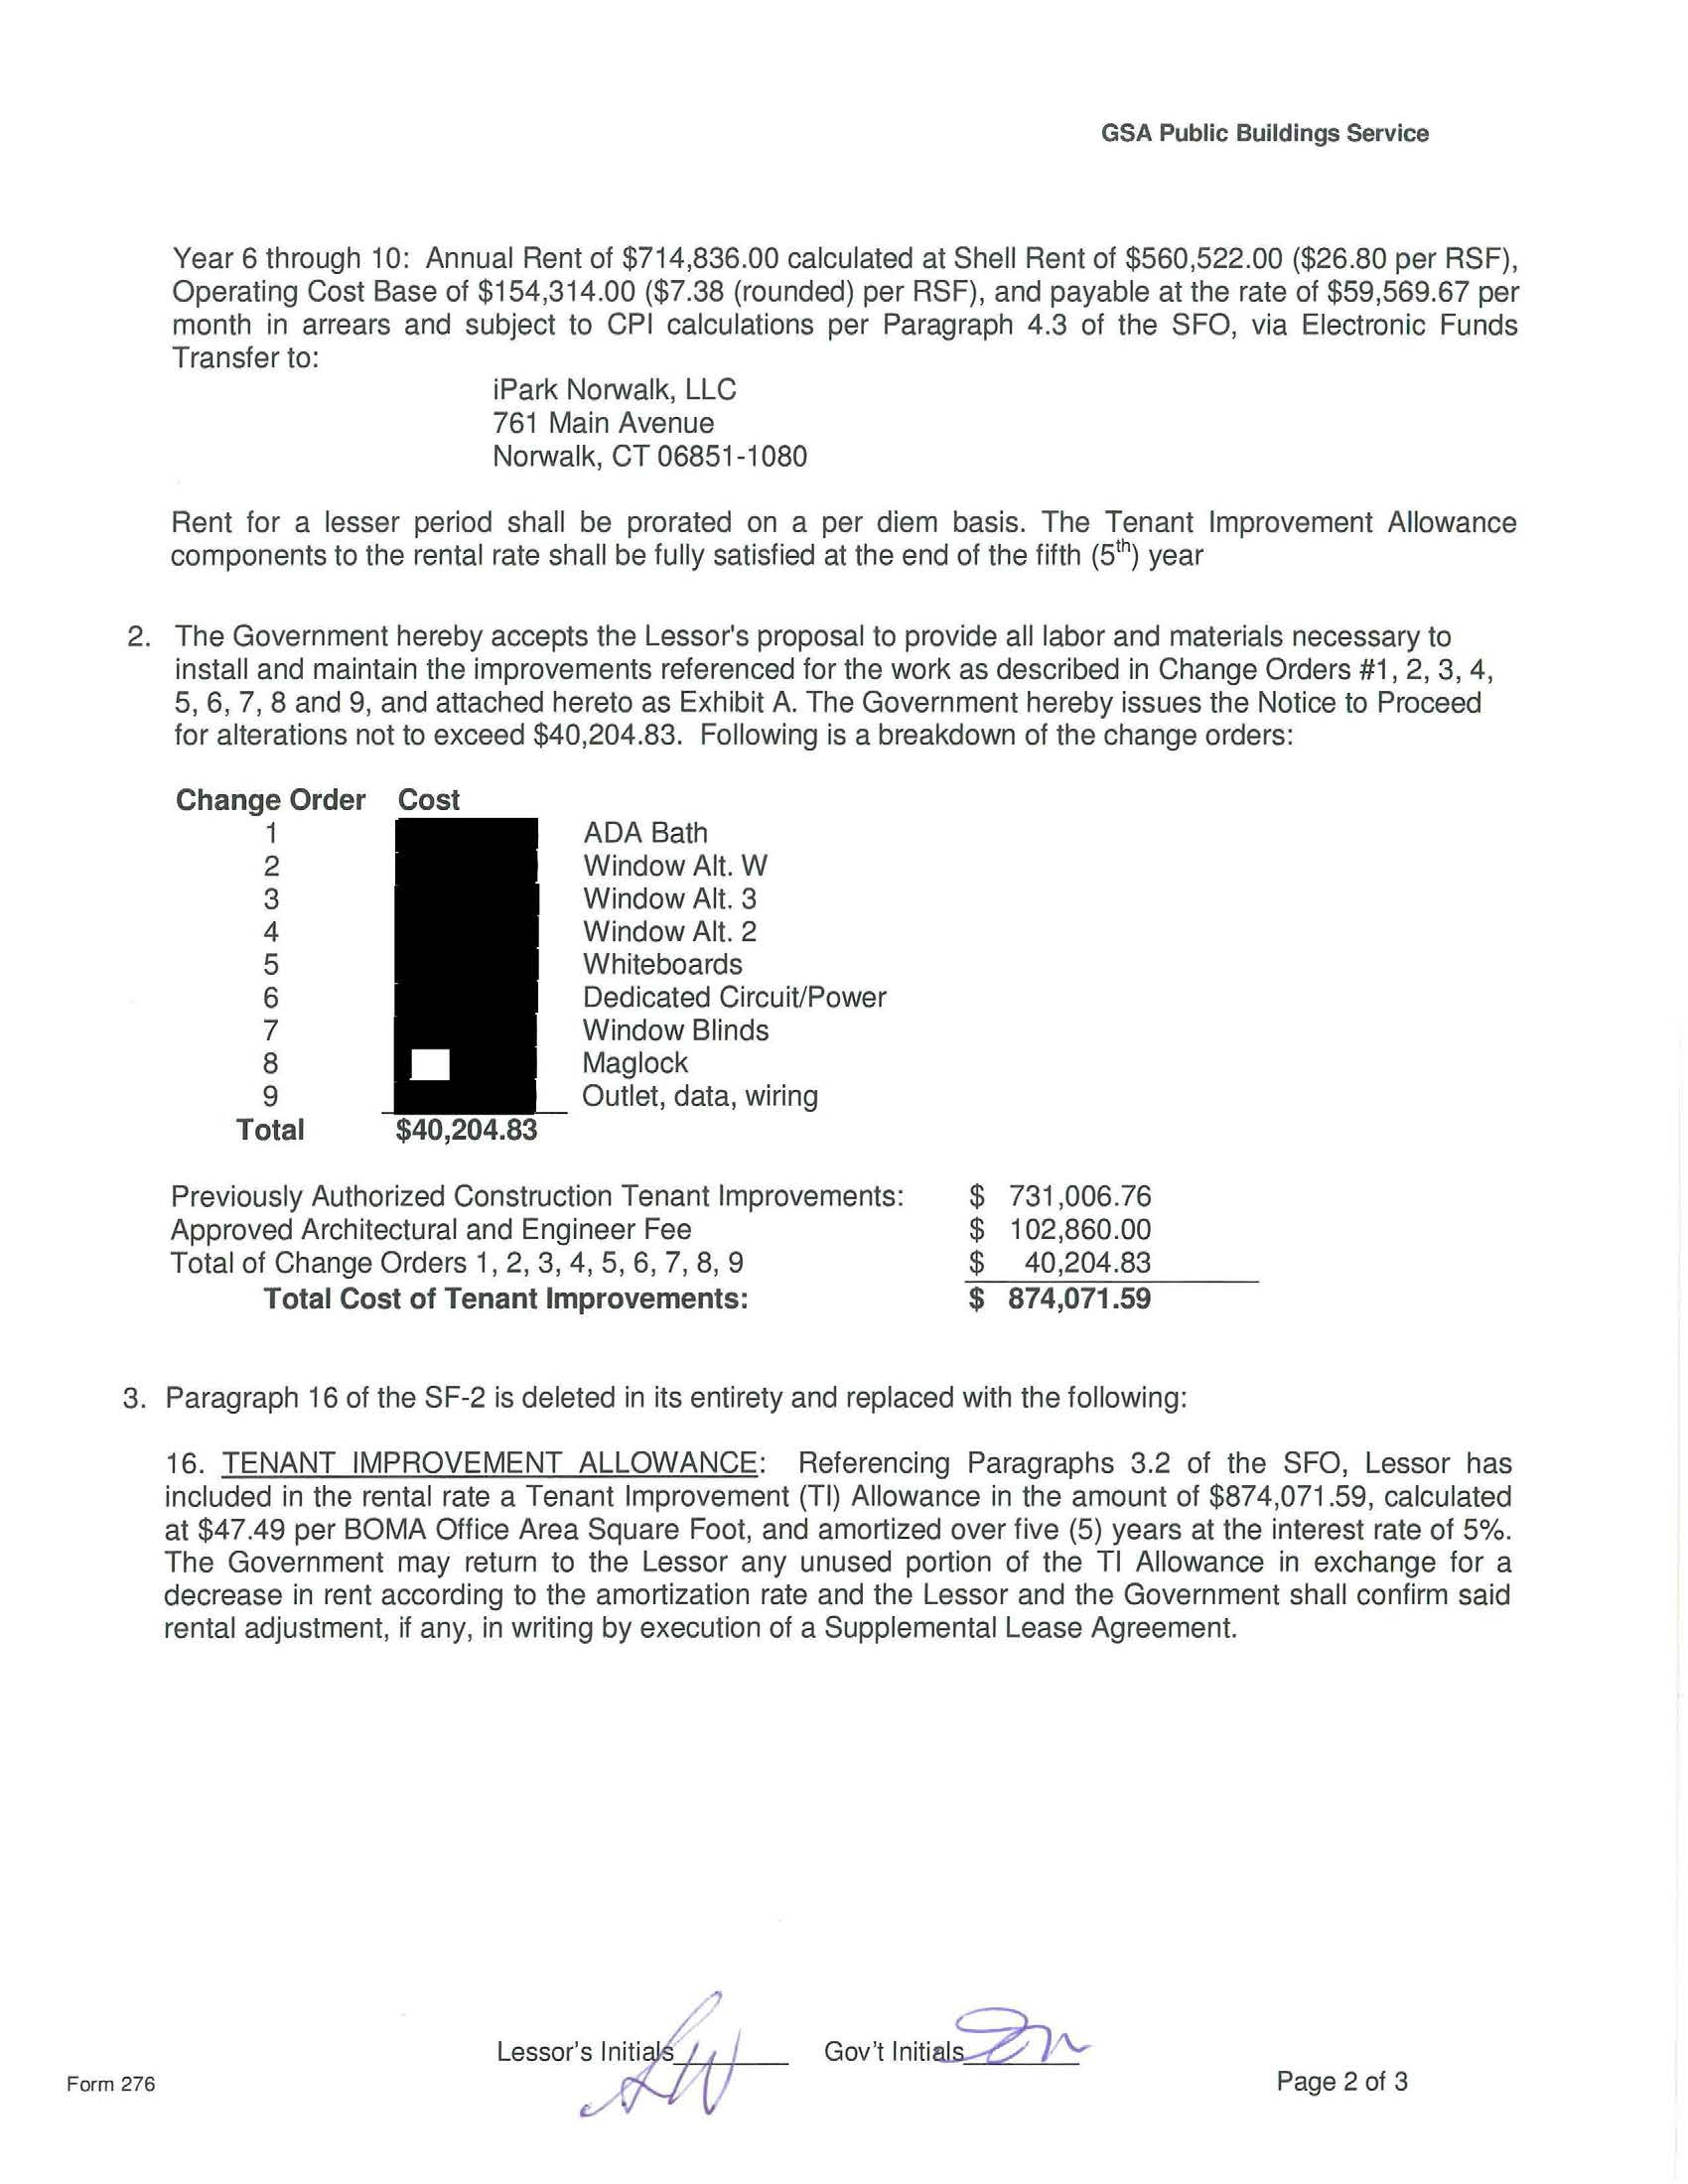handwritten: (613, 1991, 778, 2145), (942, 1977, 1096, 2067)
